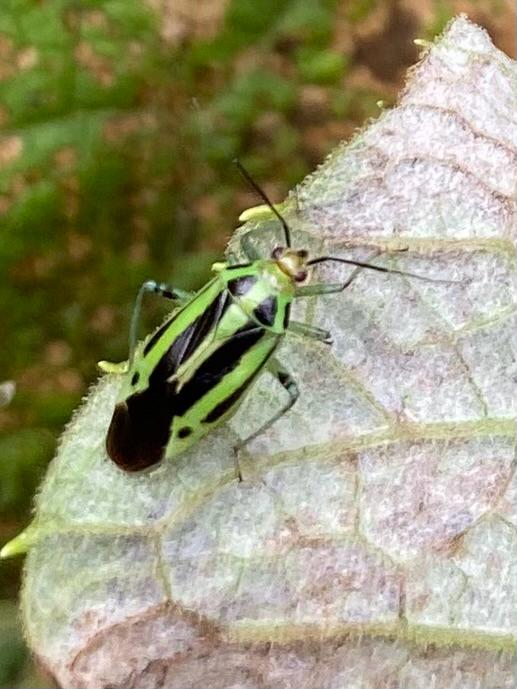plant_bugs: (57, 132, 441, 519)
